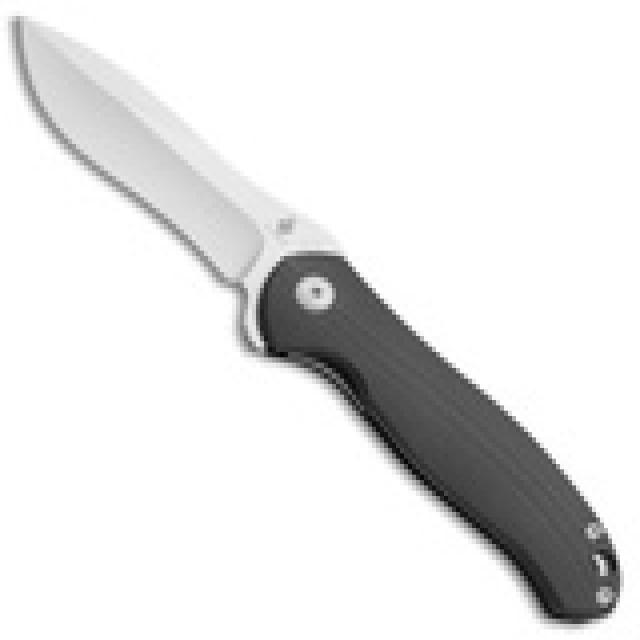Knife: (15, 12, 617, 608)
